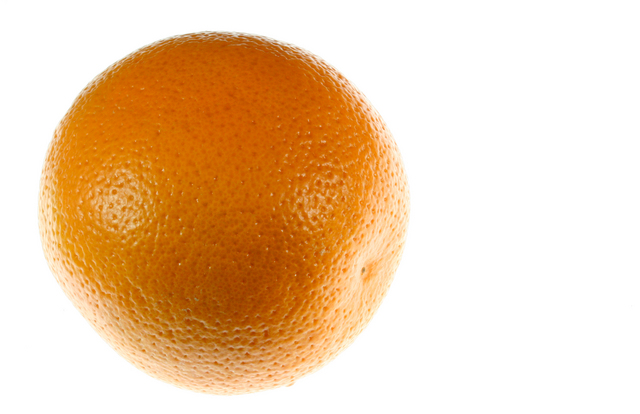orange: (33, 23, 428, 403)
